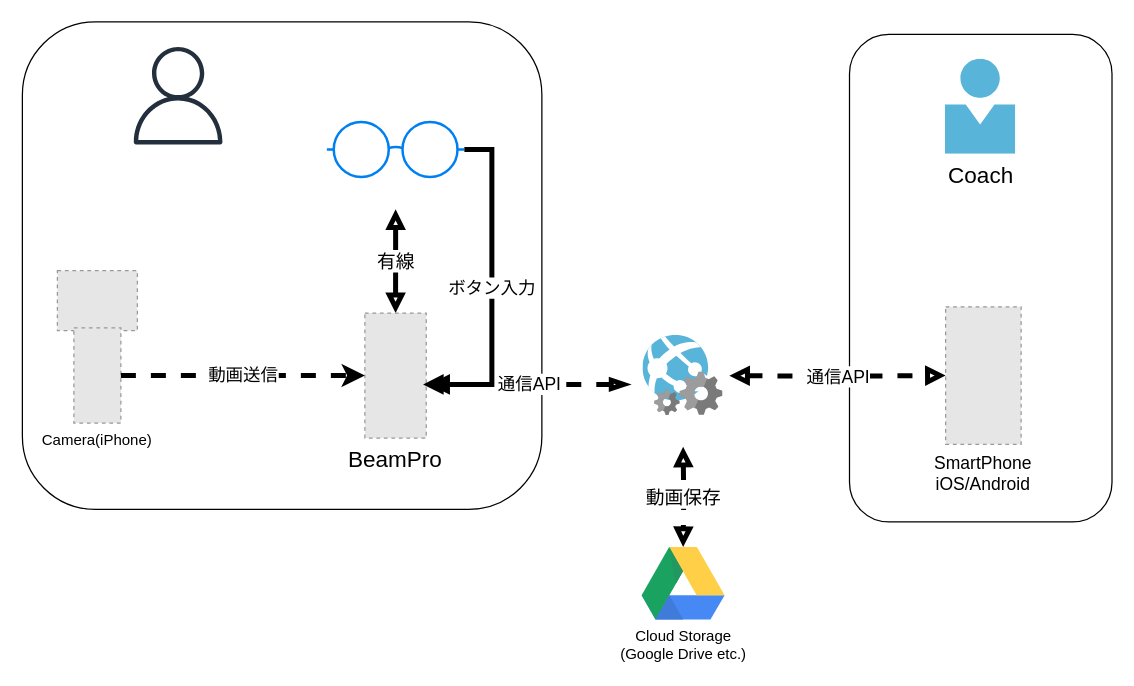
This 1134x686 diagram has some shape labels left out. Grey dashed boxes stand in for pictures. The box of each missing label's shape, as (x1, y1, x2, y2) in pixels:
Player: (129, 46, 226, 144)
Server Program: (642, 335, 722, 415)
XREAL Air Pro2: (325, 120, 465, 178)
